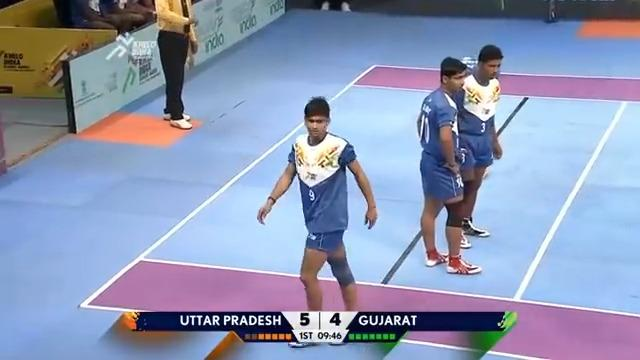Player: (256, 95, 378, 346), (416, 56, 482, 274), (451, 43, 504, 248)
referee: (152, 0, 198, 129)
